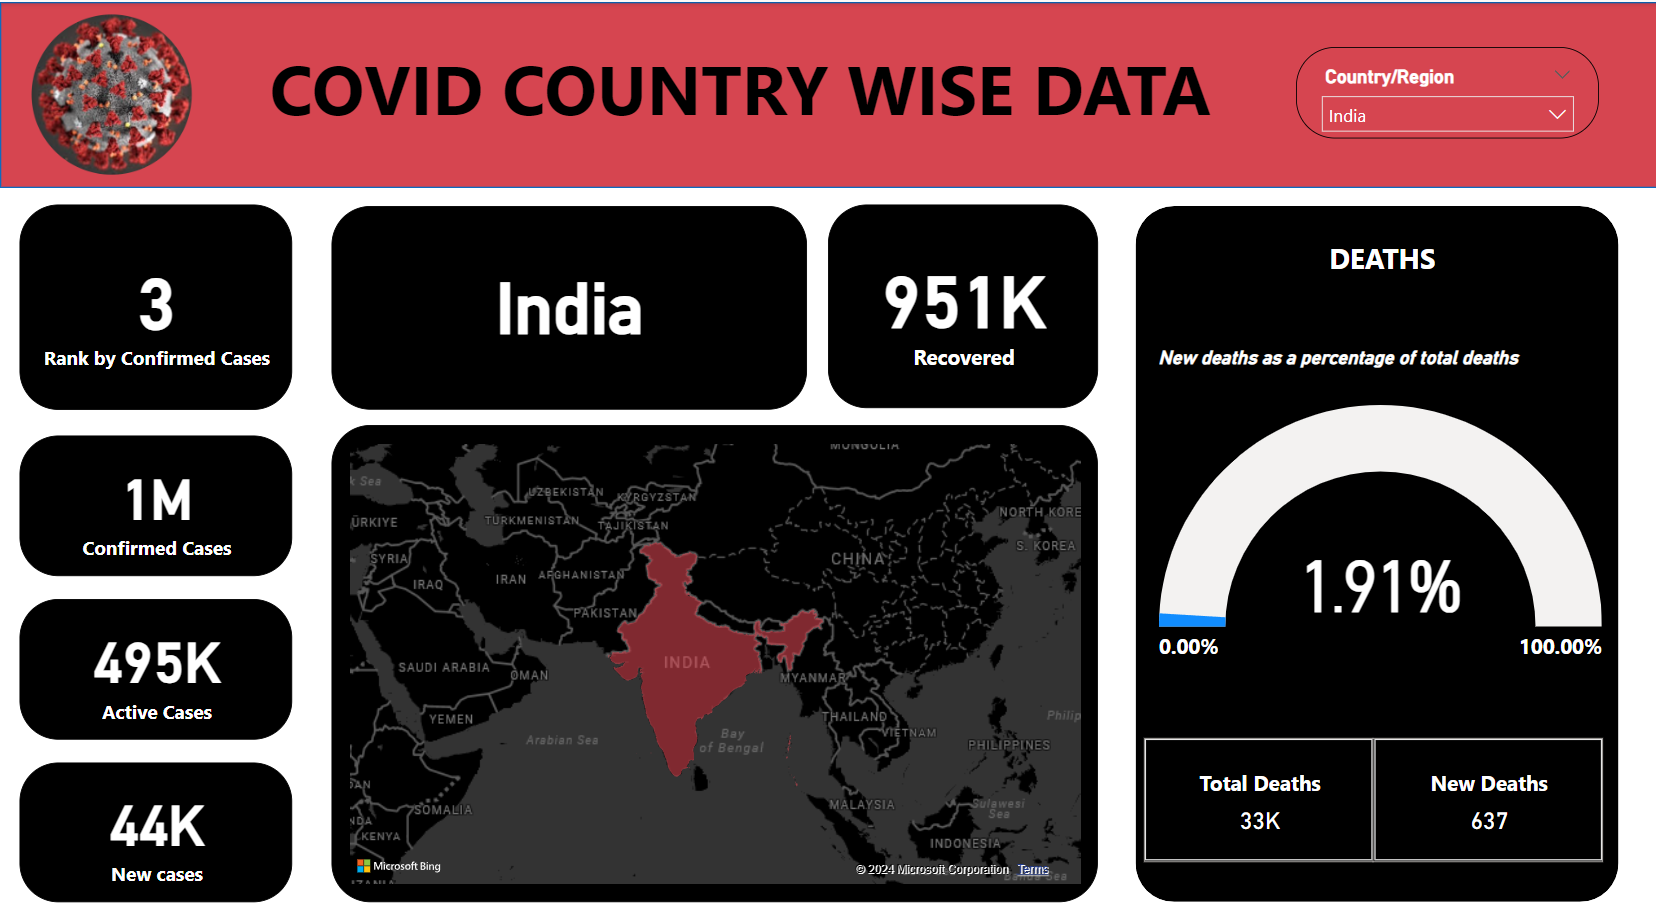

The dashboard page shown, as its layout file describes it:
{"tool":"powerbi","page":{"name":"covid report","canvas":[1280,720],"ordinal":0},"visuals":[{"type":"shape","box":[0,0,1280.4,143.7],"z":0},{"type":"group","id":"g1","title":"Group 3","box":[876.8,157.1,373.1,537.7],"z":0,"group":"g2"},{"type":"shape","box":[876.8,157.1,373.1,537.7],"z":0,"group":"g4"},{"type":"card","fields":{"Values":["Min(country_wise_latest.Country/Region)"]},"box":[256.1,157.6,367.3,157.6],"z":1000},{"type":"textbox","box":[915.4,177.1,304.7,45.2],"z":1000,"group":"g2"},{"type":"gauge","fields":{"Y":["Avg(country_wise_latest.percentage of new death)"]},"box":[889.8,265.9,352.3,271.1],"z":1000,"group":"g4"},{"type":"card","fields":{"Values":["Sum(country_wise_latest.New cases)"]},"box":[15.1,587.5,210.9,107.8],"z":2000},{"type":"card","fields":{"Values":["Sum(country_wise_latest.Recovered)"]},"box":[639.6,156.4,208.6,157.6],"z":3000},{"type":"group","id":"g2","title":"Group 4","box":[876.8,157.1,373.1,537.7],"z":4000},{"type":"group","id":"g3","title":"Group 2","box":[876.8,157.1,373.1,537.7],"z":4500,"group":"g1"},{"type":"slicer","fields":{"Values":["country_wise_latest.Country/Region"]},"box":[1001.1,34.8,234.1,70.7],"z":5000},{"type":"cardVisual","fields":{"Data":["Sum(country_wise_latest.Deaths)","Sum(country_wise_latest.New deaths)"]},"box":[878.2,562.6,365,106.6],"z":5000,"group":"g1"},{"type":"filledMap","fields":{"Category":["country_wise_latest.Country/Region"]},"box":[256.1,326.8,592.1,368.5],"z":6000},{"type":"card","fields":{"Values":["Sum(country_wise_latest.Active)"]},"box":[15.1,461.2,210.9,108.9],"z":7000},{"type":"group","id":"g4","title":"Group 1","box":[876.8,157.1,373.1,537.7],"z":8000,"group":"g3"},{"type":"card","fields":{"Values":["Sum(country_wise_latest.Confirmed)"]},"box":[15.1,334.9,210.9,108.9],"z":8000},{"type":"card","fields":{"Values":["Sum(country_wise_latest.Rank of confirmed Cases)"]},"box":[15.1,156.4,210.9,158.7],"z":9000},{"type":"textbox","box":[153,24.3,837.8,93.9],"z":10000},{"type":"image","box":[0,3.5,172.7,135.6],"z":11000}]}

Visuals, with their boxes in screenshot pixels (x1, y1, x2, y2), scaled from the page's 1280x720 canvas onto the 1656x922 screenshot:
shape: detection(0, 0, 1655, 184)
"Group 3" group: detection(1134, 201, 1617, 890)
shape: detection(1134, 201, 1617, 890)
card - Min(country_wise_latest.Country/Region): detection(331, 202, 807, 404)
textbox: detection(1184, 227, 1579, 285)
gauge - Avg(country_wise_latest.percentage of new death): detection(1151, 340, 1607, 688)
card - Sum(country_wise_latest.New cases): detection(20, 752, 292, 890)
card - Sum(country_wise_latest.Recovered): detection(827, 200, 1097, 402)
"Group 4" group: detection(1134, 201, 1617, 890)
"Group 2" group: detection(1134, 201, 1617, 890)
slicer - country_wise_latest.Country/Region: detection(1295, 45, 1598, 135)
cardVisual - Sum(country_wise_latest.Deaths) x Sum(country_wise_latest.New deaths): detection(1136, 720, 1608, 857)
filledMap - country_wise_latest.Country/Region: detection(331, 418, 1097, 890)
card - Sum(country_wise_latest.Active): detection(20, 591, 292, 730)
"Group 1" group: detection(1134, 201, 1617, 890)
card - Sum(country_wise_latest.Confirmed): detection(20, 429, 292, 568)
card - Sum(country_wise_latest.Rank of confirmed Cases): detection(20, 200, 292, 404)
textbox: detection(198, 31, 1282, 151)
image: detection(0, 4, 223, 178)
